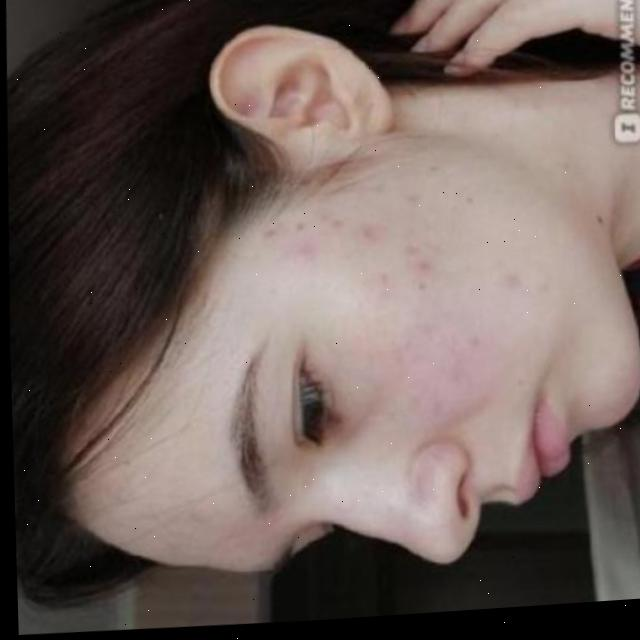Acne: (344, 160, 507, 411)
